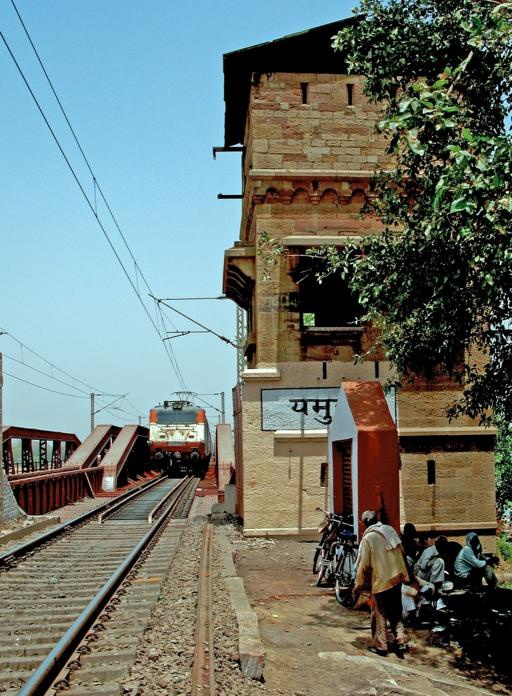non-vehicle: (312, 506, 357, 594), (315, 518, 359, 606)
